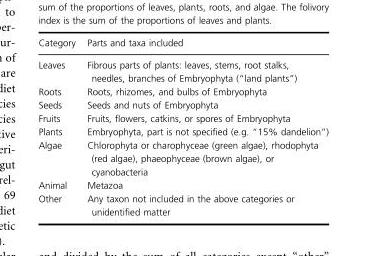table: (37, 37, 328, 216)
table column: (80, 37, 328, 216), (37, 37, 80, 216)
table column header: (37, 37, 328, 53)
table row: (37, 138, 328, 178), (37, 53, 328, 85), (37, 191, 328, 216), (37, 37, 328, 53), (37, 111, 328, 125), (37, 85, 328, 98), (37, 98, 328, 111), (37, 125, 328, 138), (37, 178, 328, 191)
